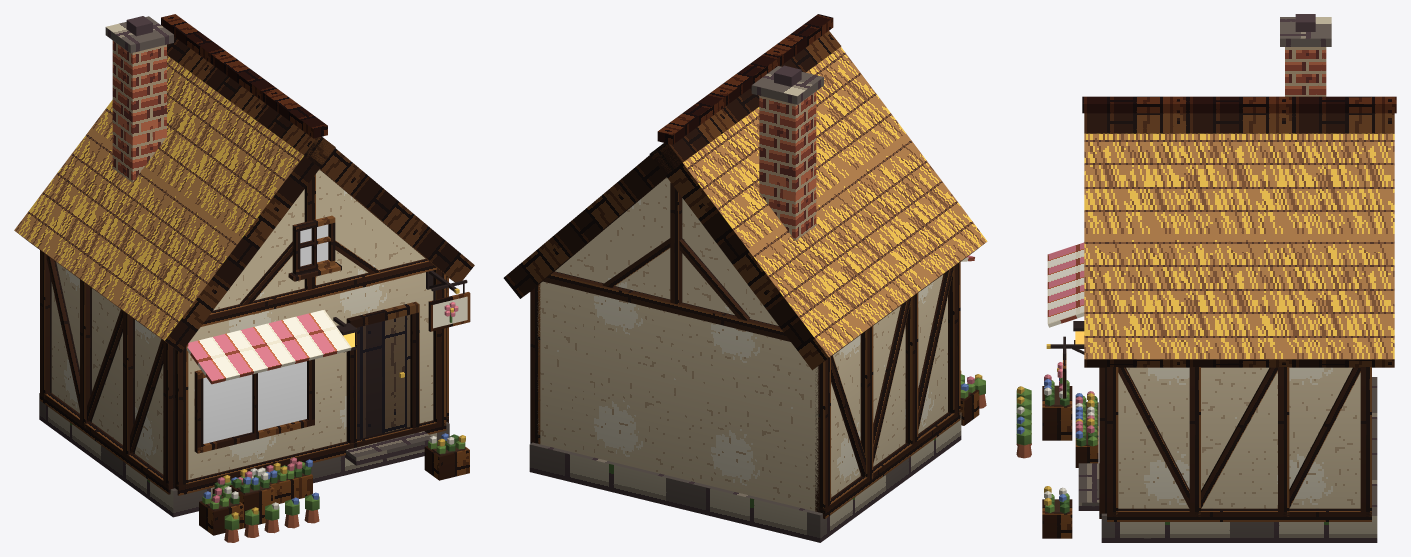
File: flower_shop.glb
3 renders of one model, left to right at view 1: azimuth 30°, elevation 25°; view 2: azimuth 150°, elevation 25°; view 3: azimuth 270°, elevation 25°, orthographic. The views are drawn at different scales.
Parts seen in each view (by area): view 1: flower_shop; view 2: flower_shop; view 3: flower_shop.
Boxes of the visible parts, <box> form: flower_shop: <box>14,14,474,542</box>; flower_shop: <box>503,14,987,542</box>; flower_shop: <box>1016,14,1396,542</box>.
Bounding box in the file's own units: 5.56 × 6.98 × 5.74.
Materials: 9 (6 with a texture image).
